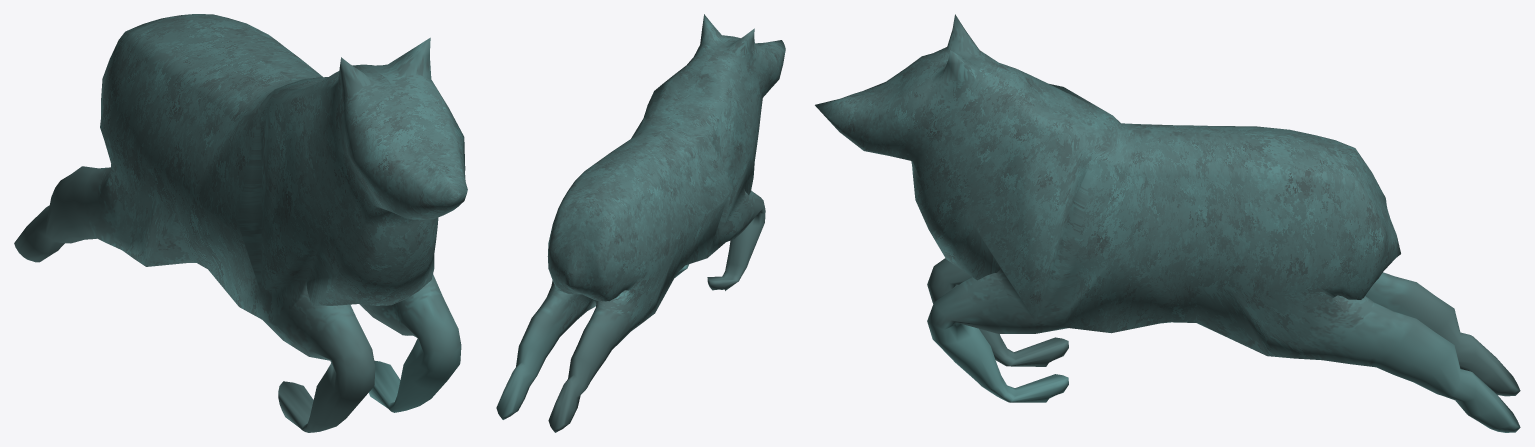
Rendered from piesblend_000016.obj.
3 renders of one model, left to right at view 1: azimuth 30°, elevation 25°; view 2: azimuth 150°, elevation 25°; view 3: azimuth 270°, elevation 25°, orthographic. The views are drawn at different scales.
Visible parts, largest first — view 1: Cube; view 2: Cube; view 3: Cube.
Boxes of the visible parts, x1,y1,x2,y2 form: Cube: [14, 14, 467, 432]; Cube: [496, 14, 785, 432]; Cube: [815, 14, 1520, 432].
Bounding box in the file's own units: 2.55 × 6.06 × 10.22.
1 material, 1 textured.
